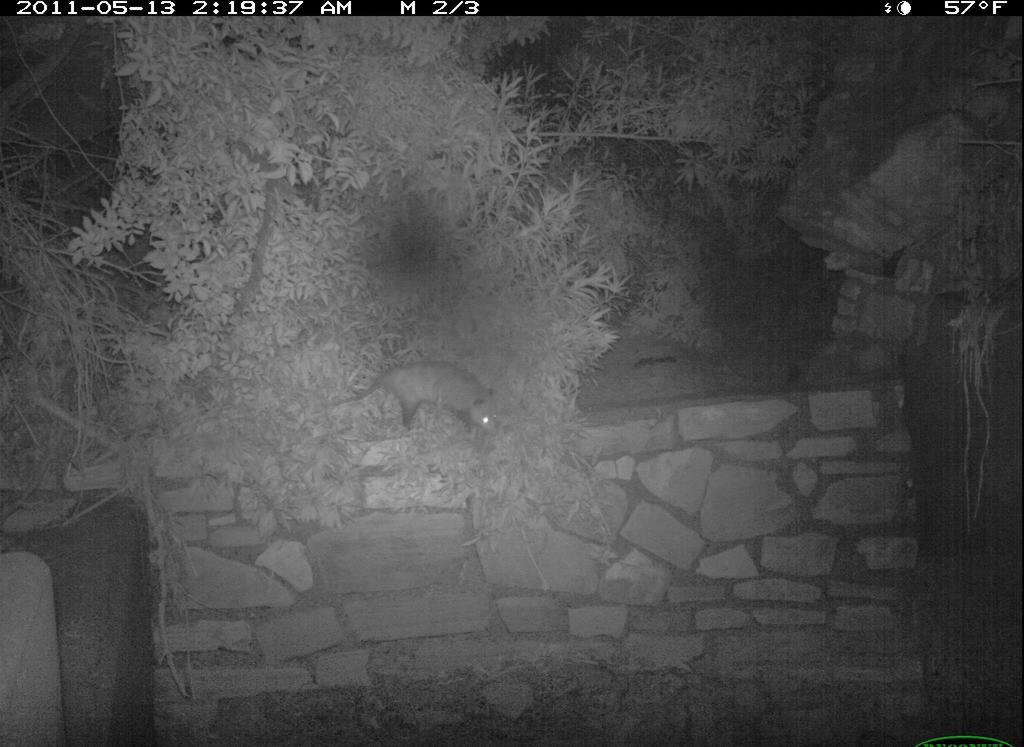opossum: (323, 356, 518, 441)
